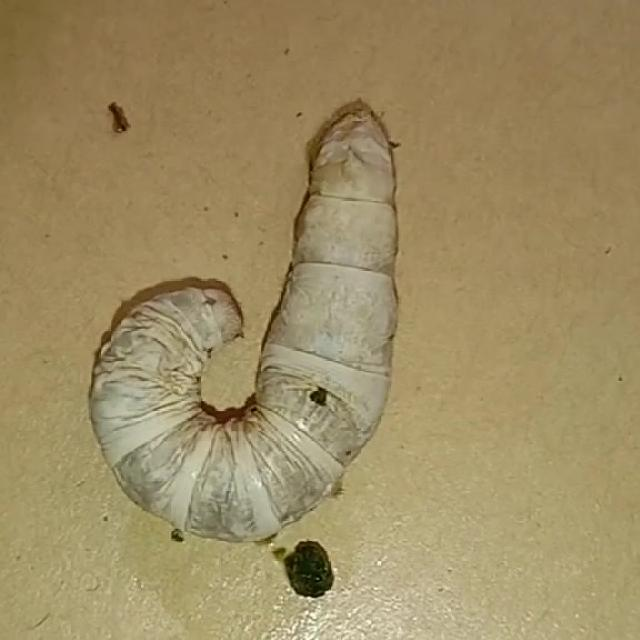Grasserie: (50, 80, 483, 562)
